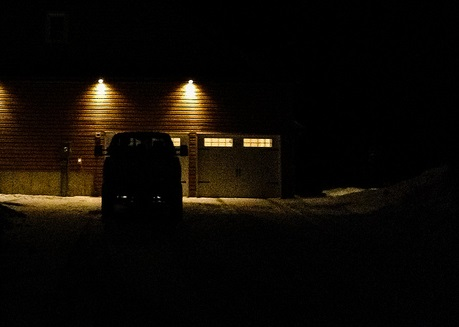car: (92, 128, 191, 226)
